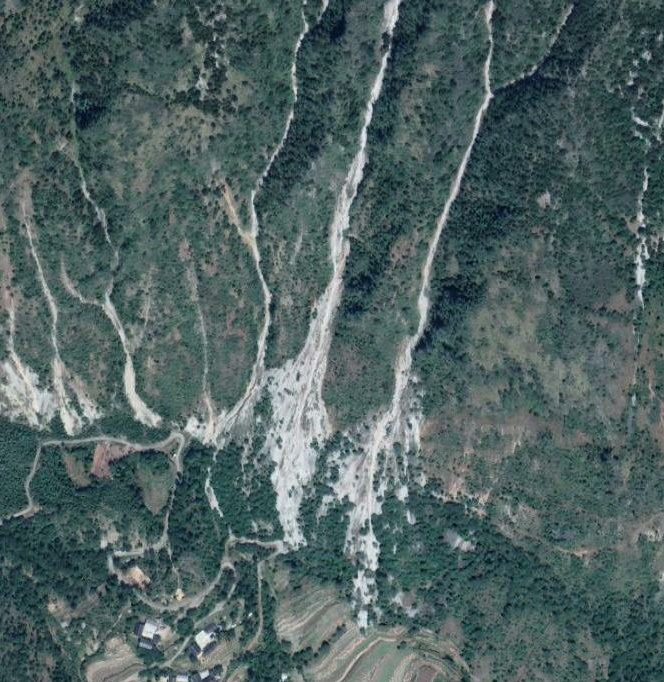slope: (178, 280, 434, 630), (0, 350, 108, 435), (120, 361, 172, 430)
